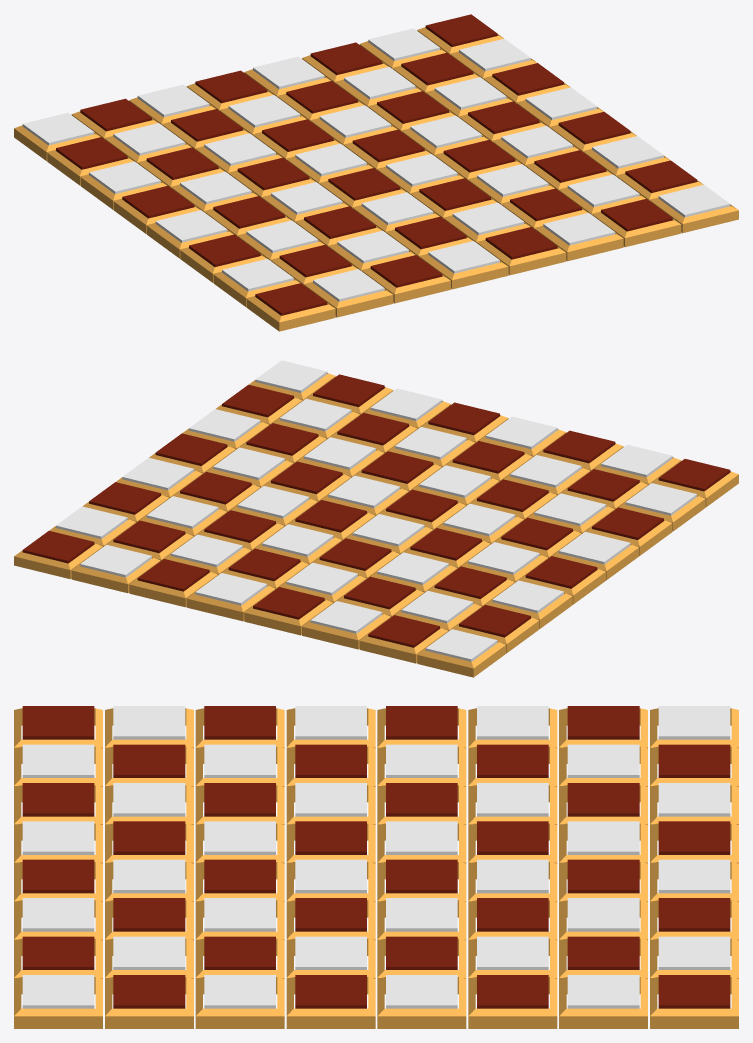
The model's file is chess5.gltf.
3 renders of one model, top to bottom at view 1: azimuth 30°, elevation 25°; view 2: azimuth 150°, elevation 25°; view 3: azimuth 270°, elevation 25°, orthographic. The views are drawn at different scales.
Parts seen in each view (by area): view 1: trim.049, tile.030, tile.003, tile.008, tile.009, tile.016, tile.019, tile.025, tile.039, tile, tile.010, tile.015 (+116 smaller); view 2: trim.036, tile.052, tile.002, tile.008, tile.009, tile.042, tile.055, tile.056, tile.059, tile.001, tile.011, tile.014 (+116 smaller); view 3: tile.024, tile.040, tile.032, tile.041, tile, tile.001, tile.016, tile.056, tile.025, tile.026, tile.028, tile.029 (+116 smaller).
Boxes of the visible parts, x1,y1,x2,y2 form: trim.049: (246, 296, 335, 331); tile.030: (401, 52, 473, 85); tile.003: (328, 168, 400, 200); tile.008: (122, 185, 194, 218); tile.009: (155, 210, 227, 242); tile.016: (319, 105, 391, 137); tile.019: (146, 147, 218, 179); tile.025: (228, 95, 300, 127); tile.039: (310, 42, 382, 75); tile: (352, 129, 424, 162); tile.010: (525, 87, 597, 119); tile.015: (443, 140, 515, 172); trim.036: (417, 642, 506, 677); tile.052: (279, 398, 351, 431); tile.002: (352, 514, 424, 546); tile.008: (525, 556, 597, 588); tile.009: (558, 531, 630, 564); tile.042: (452, 441, 524, 473); tile.055: (370, 388, 442, 421); tile.056: (361, 451, 433, 483); tile.059: (534, 493, 606, 525); tile.001: (328, 475, 400, 508); tile.011: (155, 433, 227, 465); tile.014: (237, 486, 309, 518); tile.024: (567, 859, 639, 893); tile.040: (113, 859, 185, 893); tile.032: (658, 859, 730, 893); tile.041: (22, 859, 94, 893); tile: (386, 859, 457, 893); tile.001: (295, 859, 366, 893); tile.016: (477, 859, 548, 893); tile.056: (204, 859, 275, 893); tile.025: (567, 821, 639, 854); tile.026: (567, 783, 639, 816); tile.028: (567, 706, 639, 739); tile.029: (567, 975, 639, 1008).
Size of the model in its own units: 15.96 by 0.485 by 15.96.
